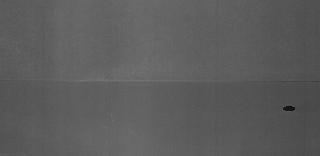punching hole: (281, 104, 297, 114)
welding line: (2, 76, 318, 86)
